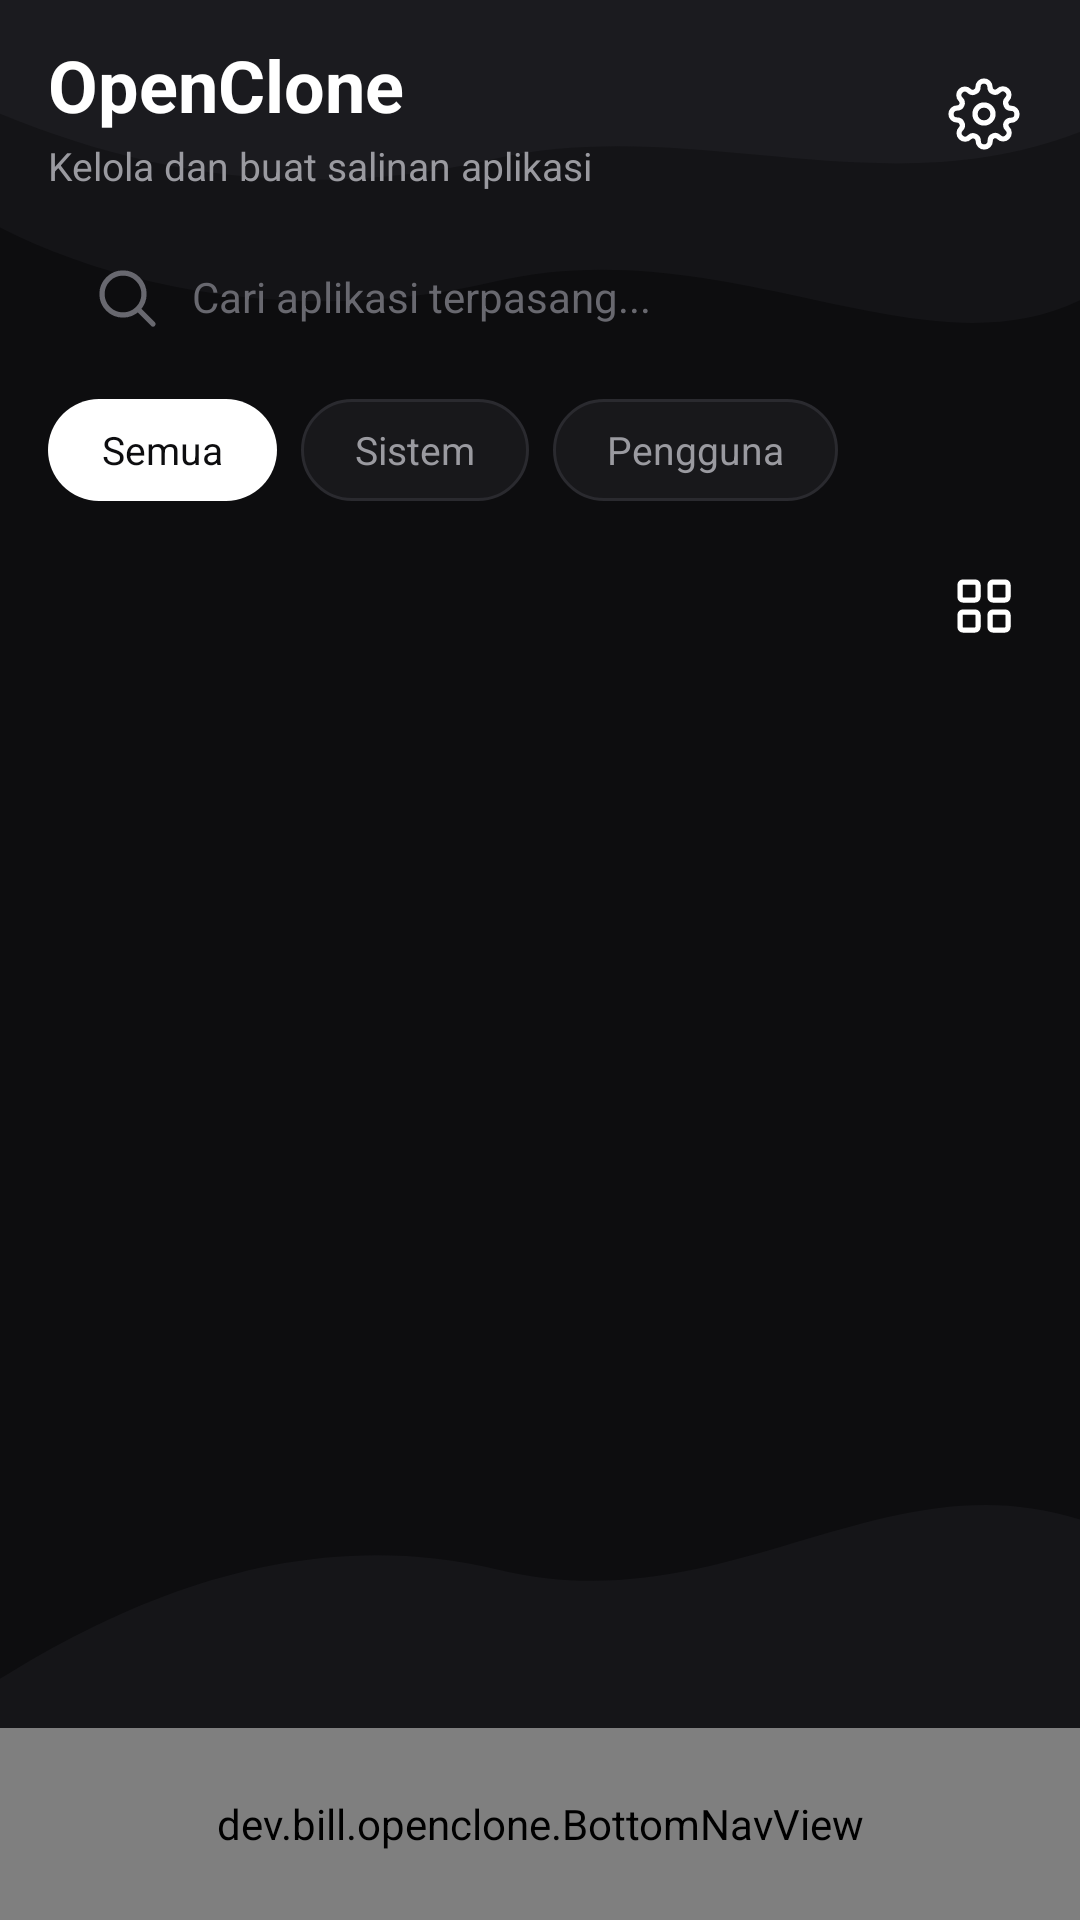

Screen size 1080*1920. Icon name, then its center in pixels as point (x, y):
Pengaturan: point (984, 114)
